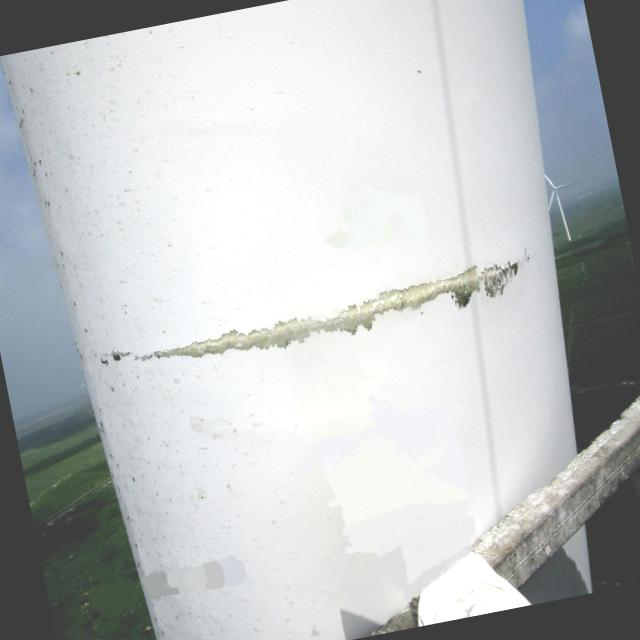surface_peeling: (130, 250, 530, 380)
